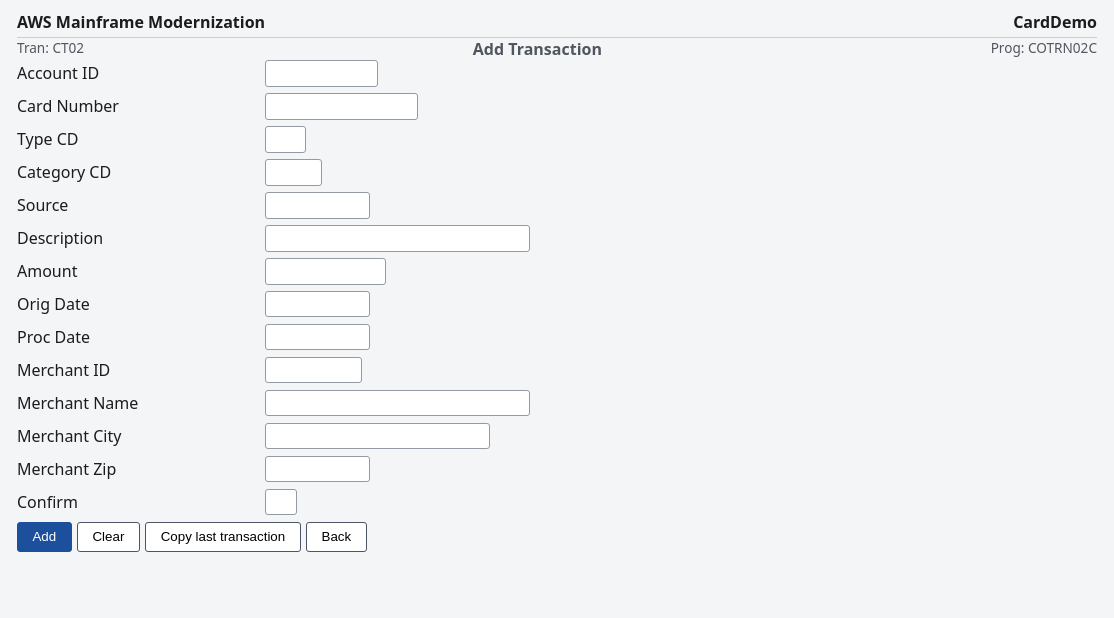
Test: Transaction add screen › asks for the confirmation before it writes, as the source did
Type "00000000009" into the field labelled "Account ID" at (321, 73), box [265,60,378,87]
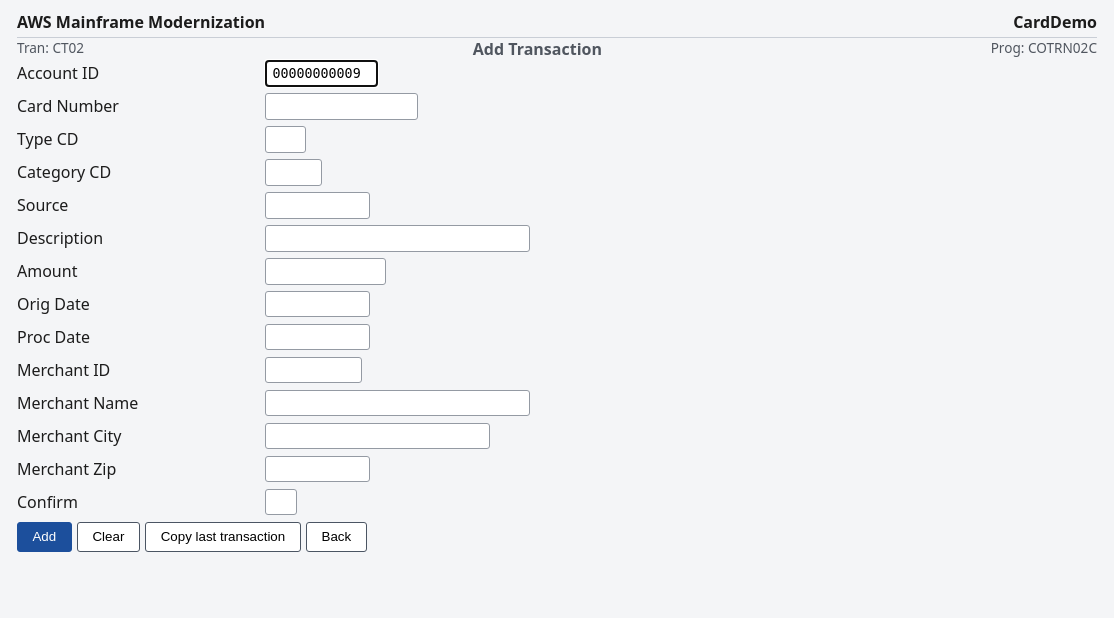
Click the button "Add" at (44, 537), box [17,522,72,552]
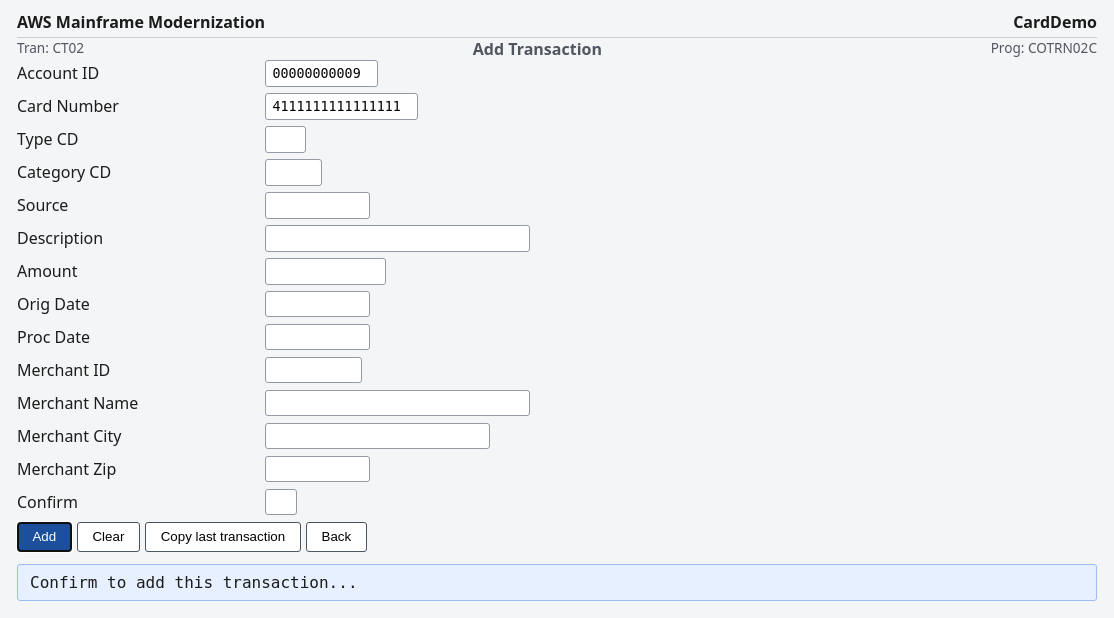
Check: the message reads "Confirm to add this transaction...", box [30,573,358,592]
Check: the field labelled "Card Number" holds "4111111111111111", box [265,93,418,120]
